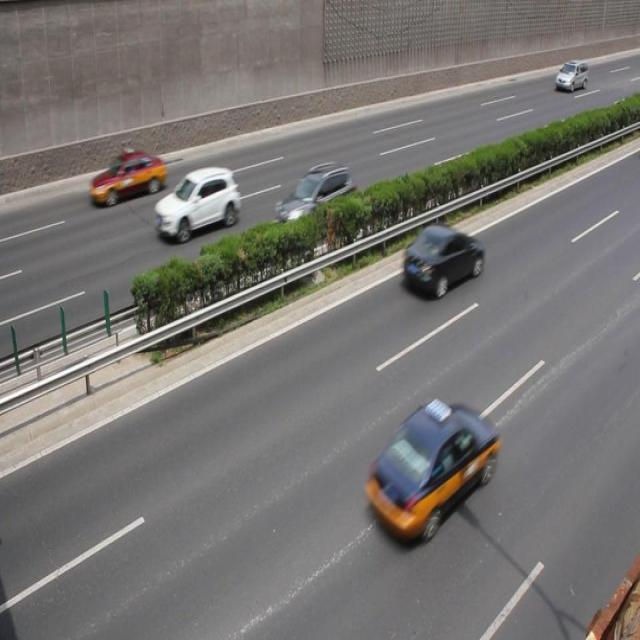car: (360, 396, 497, 544), (153, 165, 240, 242), (272, 163, 356, 242), (401, 224, 482, 299), (88, 147, 166, 207), (553, 58, 586, 94)
